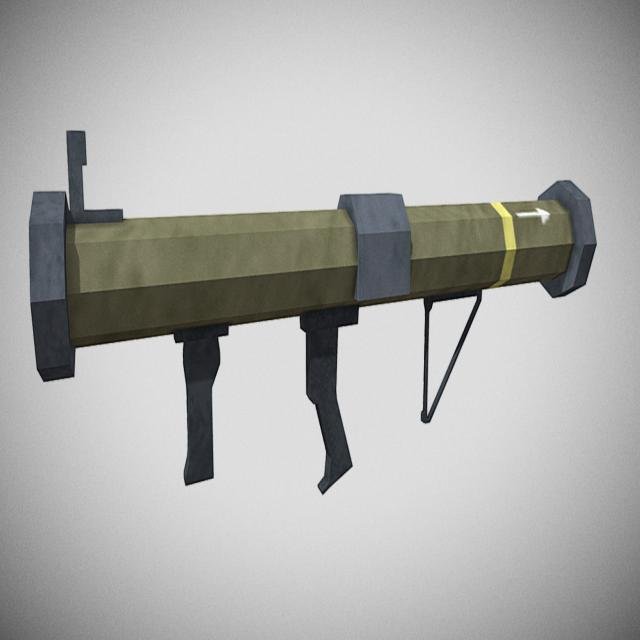bazooka: (24, 120, 617, 493)
